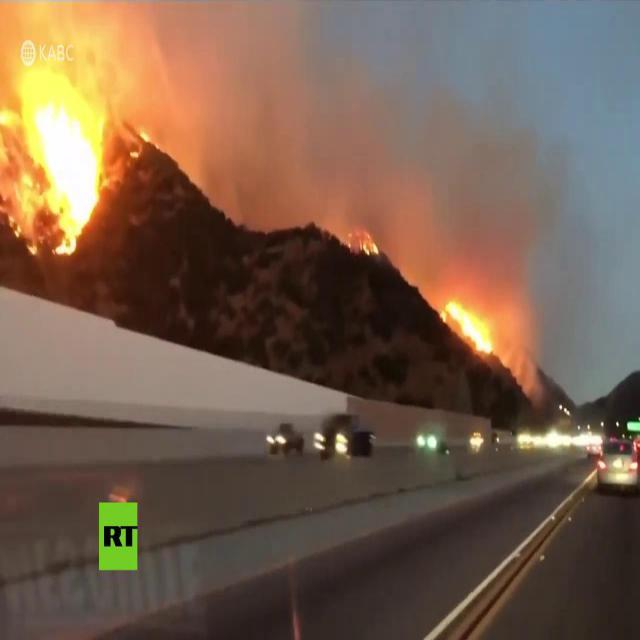Fire: (0, 72, 104, 259), (442, 296, 494, 356), (131, 129, 149, 160), (358, 231, 378, 258)
Smoke: (123, 3, 558, 253)
